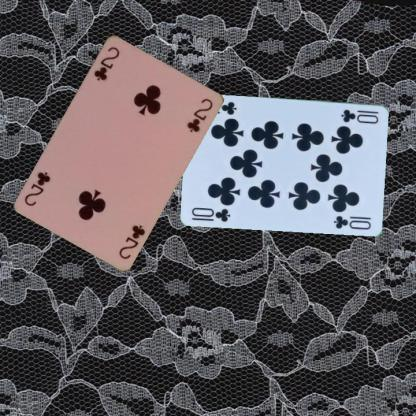10c: (339, 106, 380, 125), (190, 205, 232, 223)
2c: (91, 43, 121, 82), (116, 221, 146, 260)
